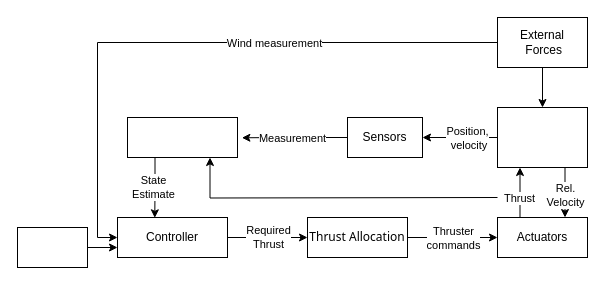
Image size: 605x285. Some labels were removed from this diagram. Each missing label, with the centre of its shape:
Observer / State Estimator: the point at 182,137
Setpoint: the point at 52,247
Vessel: the point at 542,137
